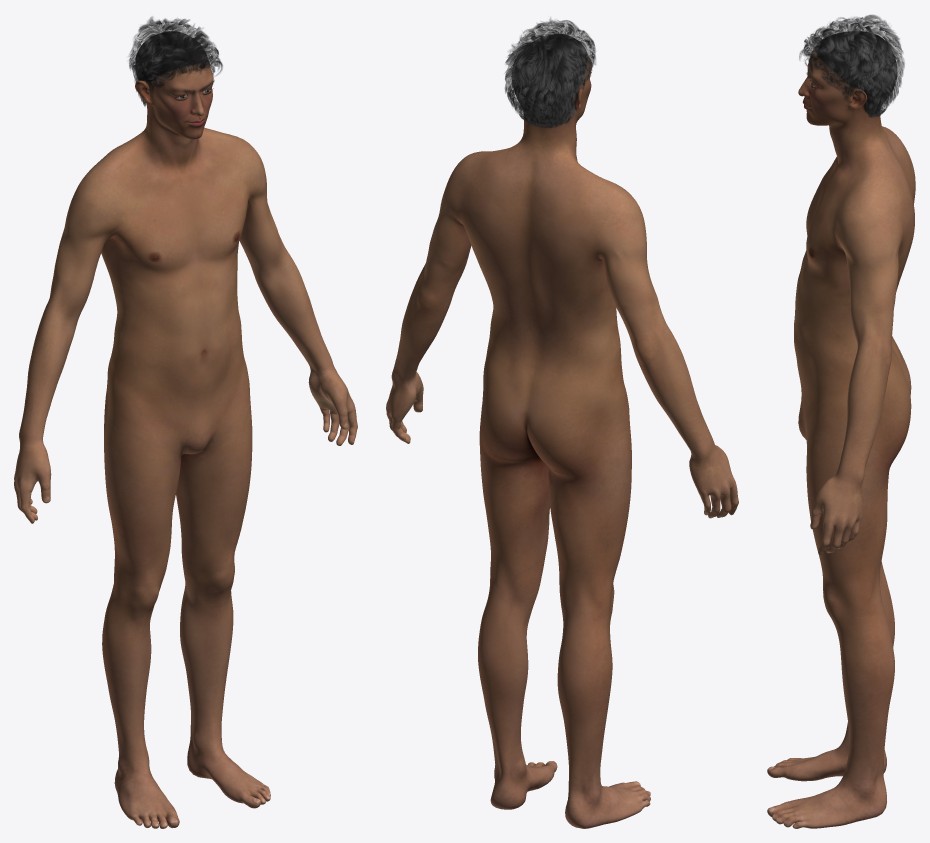
The model's file is ANH-Male.glb.
The picture shows the model from 3 angles, left to right: view 1: azimuth 30°, elevation 25°; view 2: azimuth 150°, elevation 25°; view 3: azimuth 270°, elevation 25°; orthographic projection. The views are drawn at different scales.
Parts seen in each view (by area): view 1: Male3', model_4; view 2: Male3', model_4; view 3: Male3', model_4.
Part boxes in pixels (x1=…): Male3': x1=14, y1=31, x2=357, y2=828; model_4: x1=129, y1=16, x2=222, y2=106; Male3': x1=386, y1=34, x2=738, y2=828; model_4: x1=504, y1=17, x2=595, y2=128; Male3': x1=767, y1=31, x2=915, y2=828; model_4: x1=799, y1=15, x2=904, y2=117.
Bounding box in the file's own units: 0.8744 × 1.91 × 0.3299.
8 materials, 8 textured.
